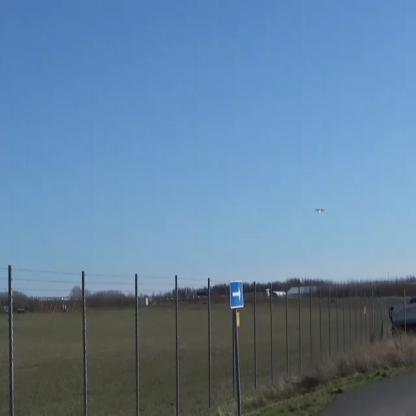CIV_Plane: (311, 199, 329, 220)
